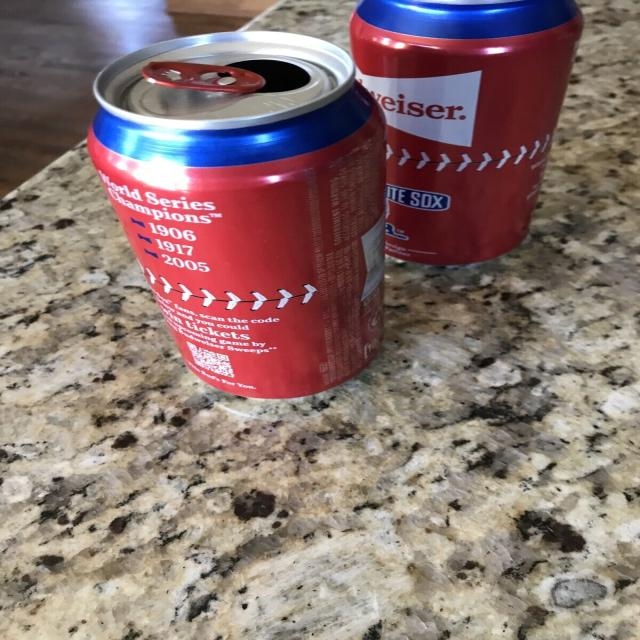can: (88, 30, 396, 405)
